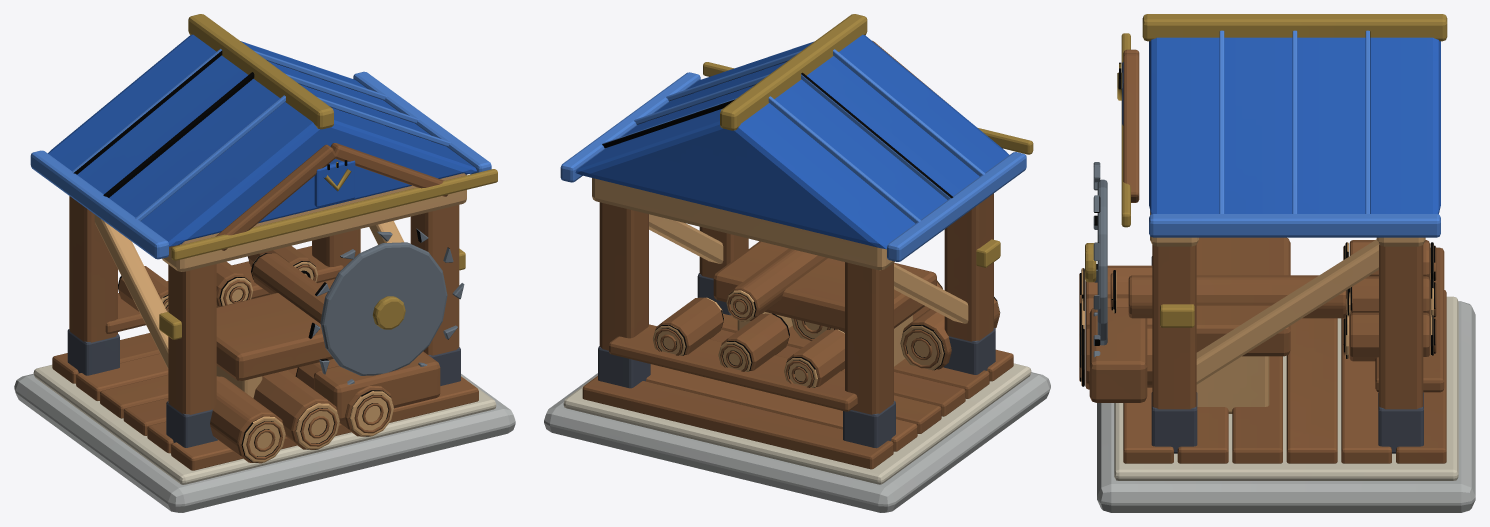
File: lumberyard_medium.glb
3 renders of one model, left to right at view 1: azimuth 30°, elevation 25°; view 2: azimuth 150°, elevation 25°; view 3: azimuth 270°, elevation 25°, orthographic. The views are drawn at different scales.
Visible parts, largest first — view 1: lumberyard_medium_surface; view 2: lumberyard_medium_surface; view 3: lumberyard_medium_surface.
Boxes of the visible parts, x1,y1,x2,y2 form: lumberyard_medium_surface: (14, 14, 515, 512); lumberyard_medium_surface: (544, 14, 1050, 512); lumberyard_medium_surface: (1079, 14, 1475, 512).
Size of the model in its own units: 1.6 by 1.56 by 1.38.
Materials: 1 (1 with a texture image).
